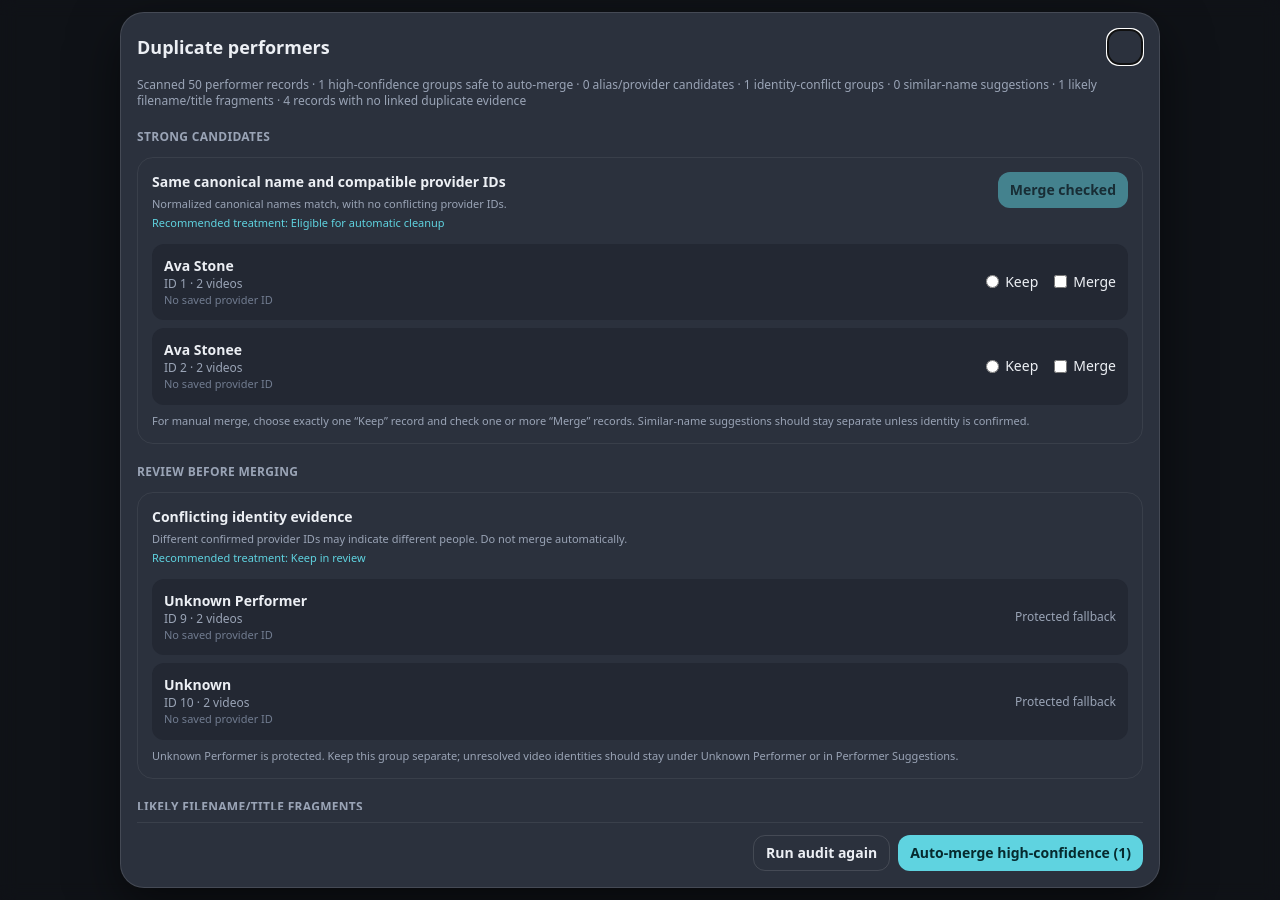
Scenario: Duplicate performers: merging one group › needs a keeper and a different record before it can merge
Expected: the text "Scanned 50 performer records" is shown, [137,77,1097,109]
Expected: the button "Merge checked" is disabled, [998,172,1128,208]
Step 1. Click the radio button with aria-label "Keep Ava Stone" → (993, 282), box [986,275,999,288]
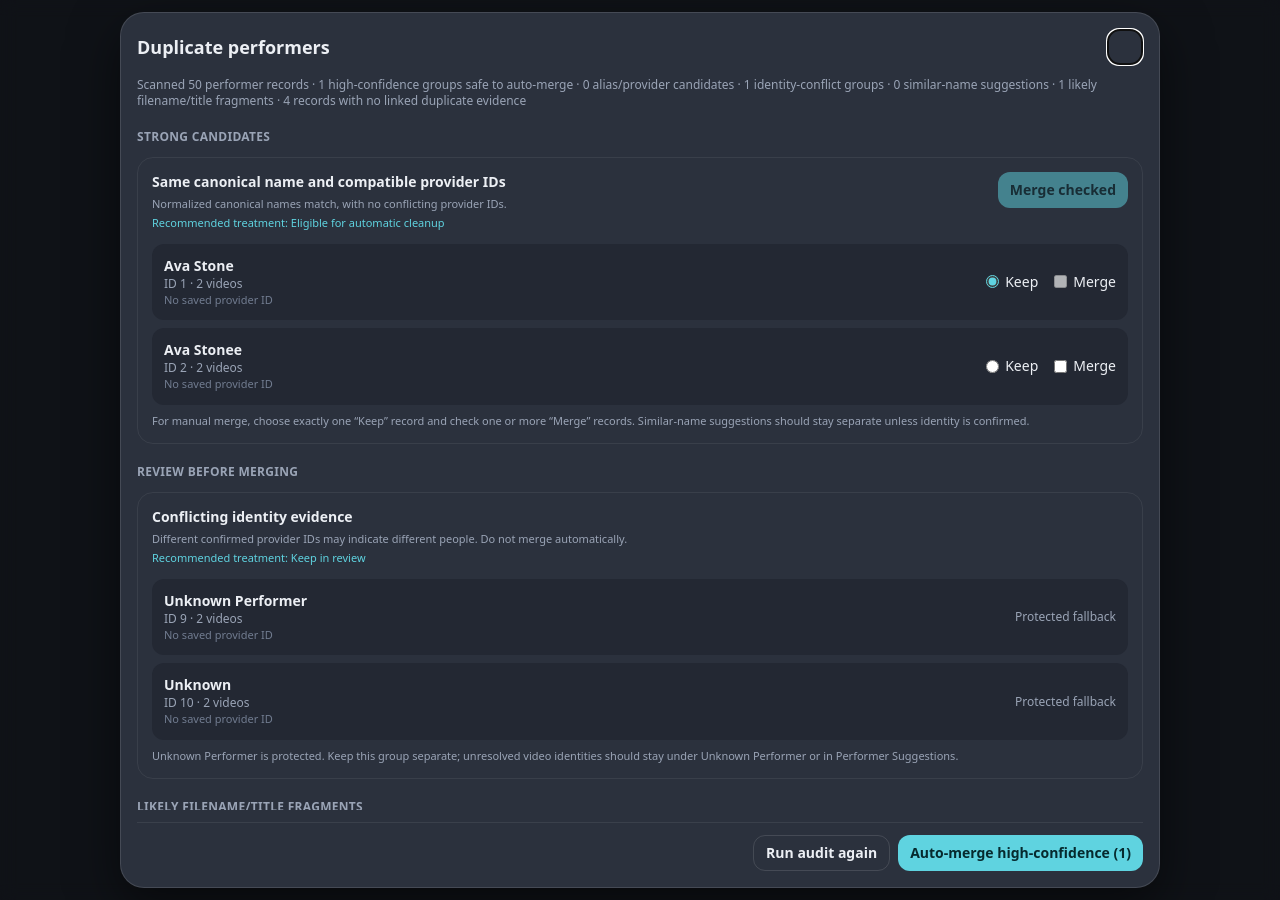
Expected: the button "Merge checked" is disabled, [998,172,1128,208]
Step 2. Click the checkbox named "Merge Ava Stonee" → (1061, 366), box [1054,360,1067,373]
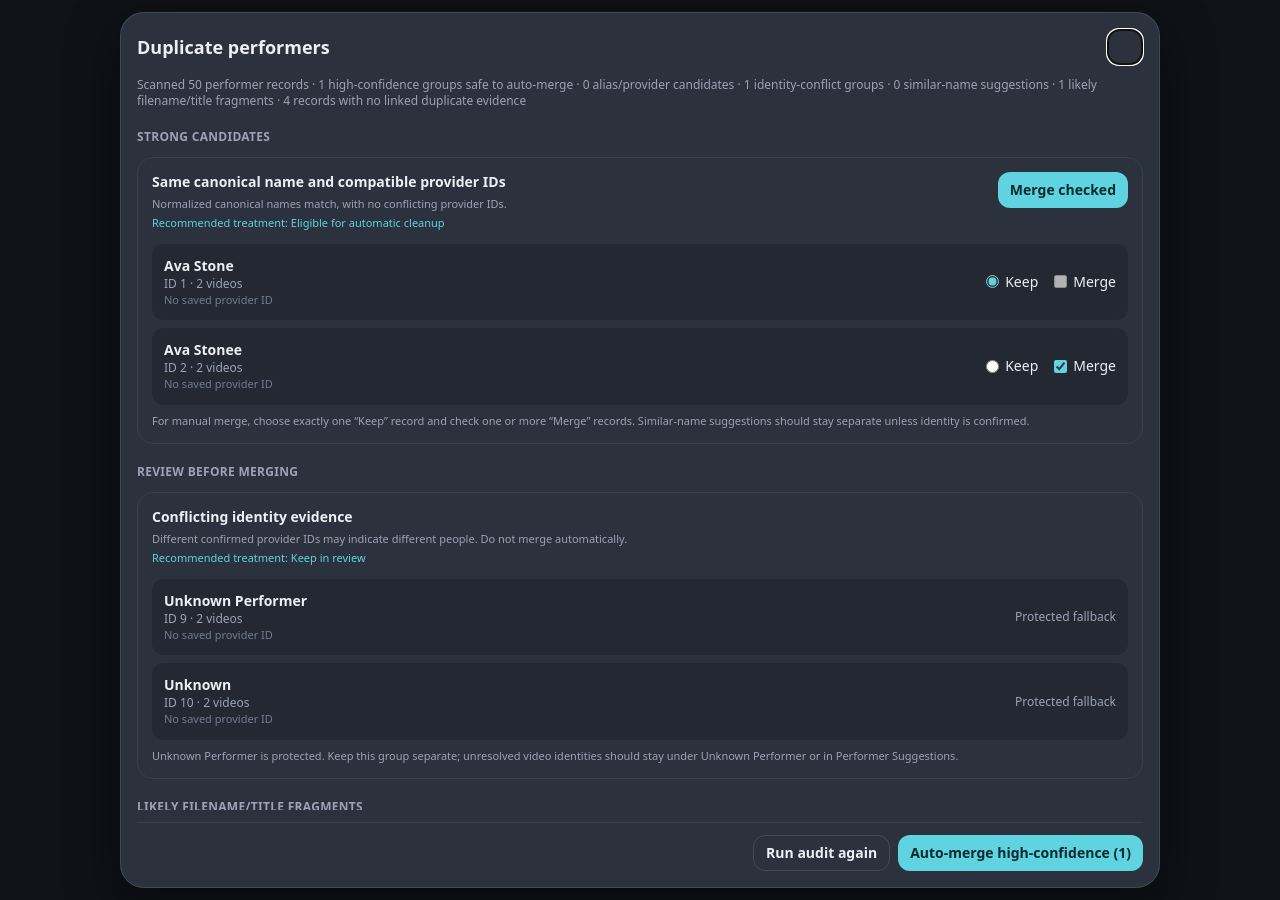
Now the checkbox named "Merge Ava Stone" is disabled, box [1054,275,1067,288]
Now the button "Merge checked" is enabled, box [998,172,1128,208]
